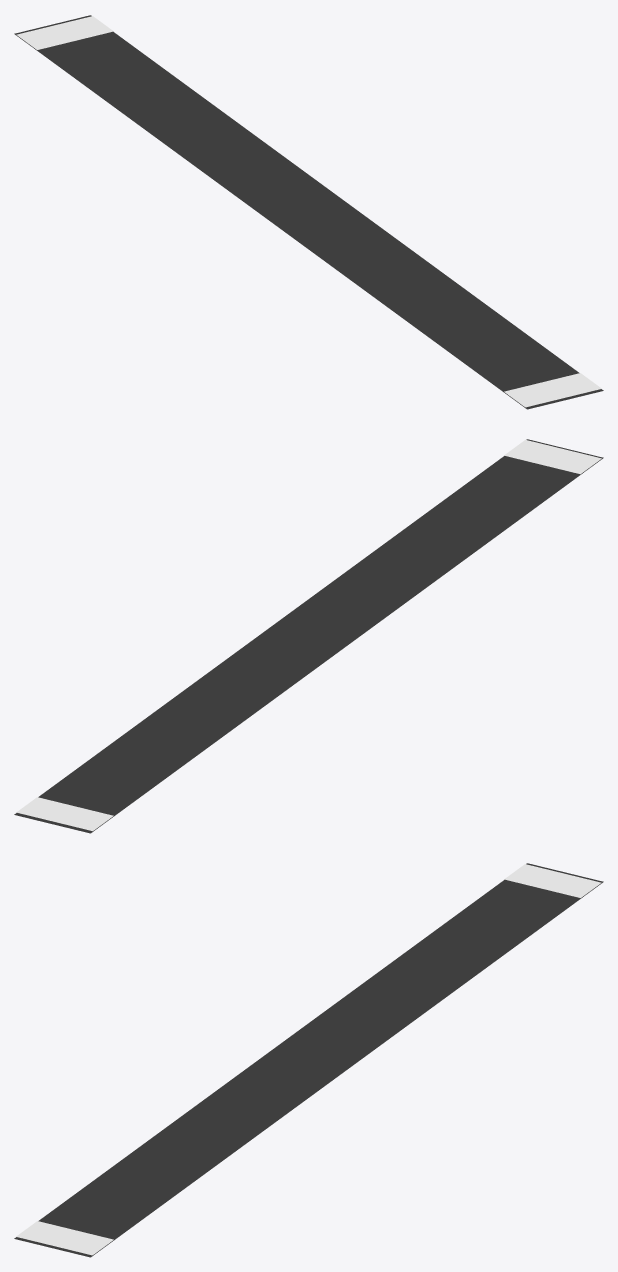
The model's file is RoadTile.fbx.
The picture shows the model from 3 angles, top to bottom: view 1: azimuth 30°, elevation 25°; view 2: azimuth 150°, elevation 25°; view 3: azimuth 330°, elevation 25°; orthographic projection.
Parts seen in each view (by area): view 1: Plane; view 2: Plane; view 3: Plane.
Boxes of the visible parts, box(x1,y1,x2,y2) form: Plane: box(14, 15, 603, 409); Plane: box(14, 439, 603, 833); Plane: box(14, 863, 603, 1257).
Bounding box in the file's own units: 82.74 × 0.7329 × 959.
